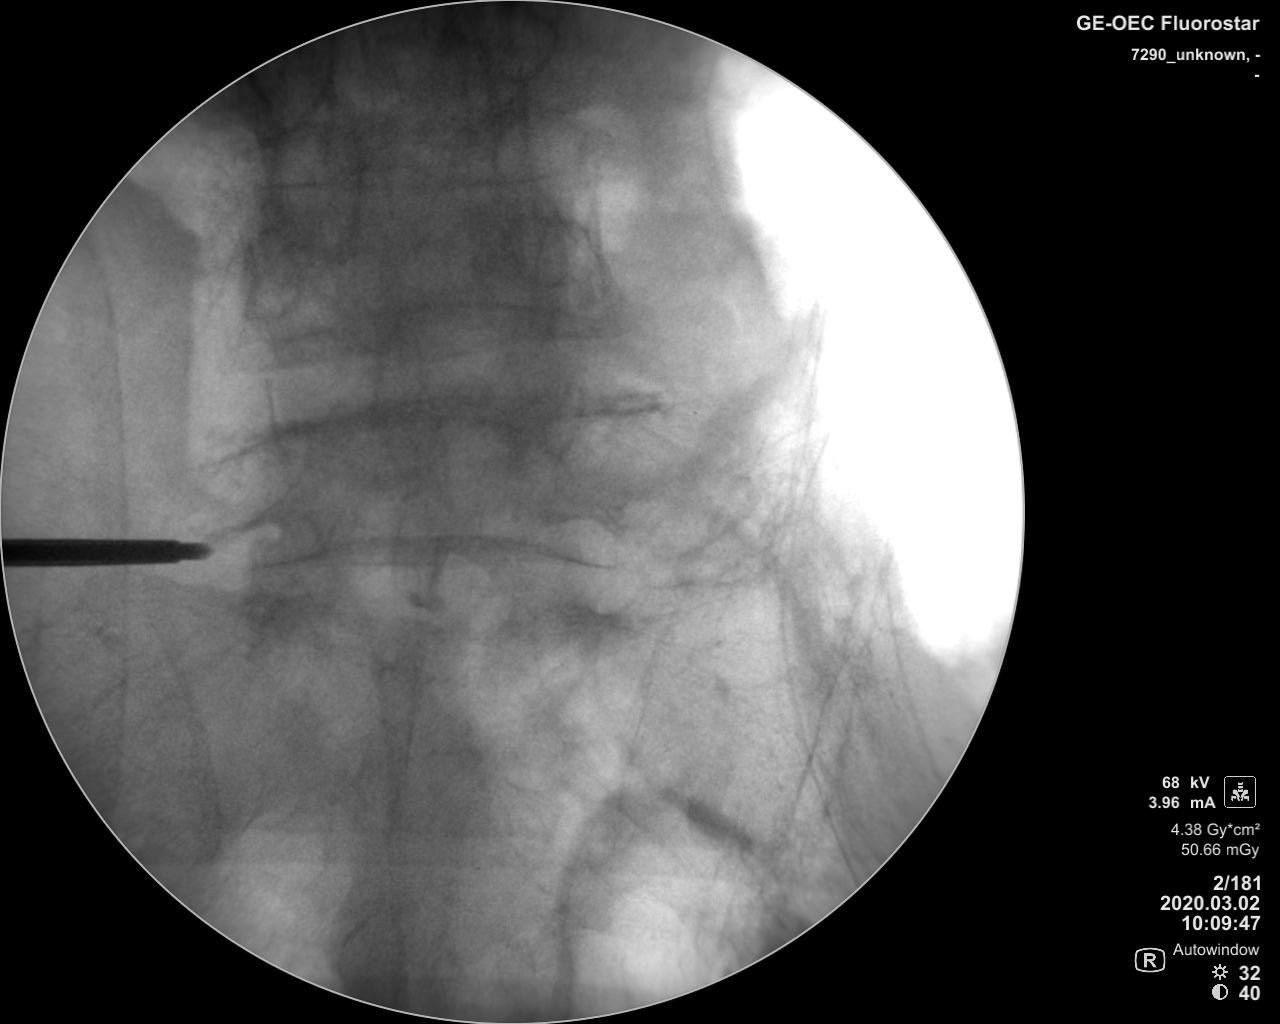eyes: (534, 213, 608, 321), (259, 239, 338, 340), (495, 115, 579, 189), (267, 127, 329, 214)
line: (220, 390, 673, 449), (240, 529, 616, 580), (236, 298, 627, 341), (245, 160, 575, 191)
nose: (370, 300, 425, 423), (388, 481, 439, 608)
